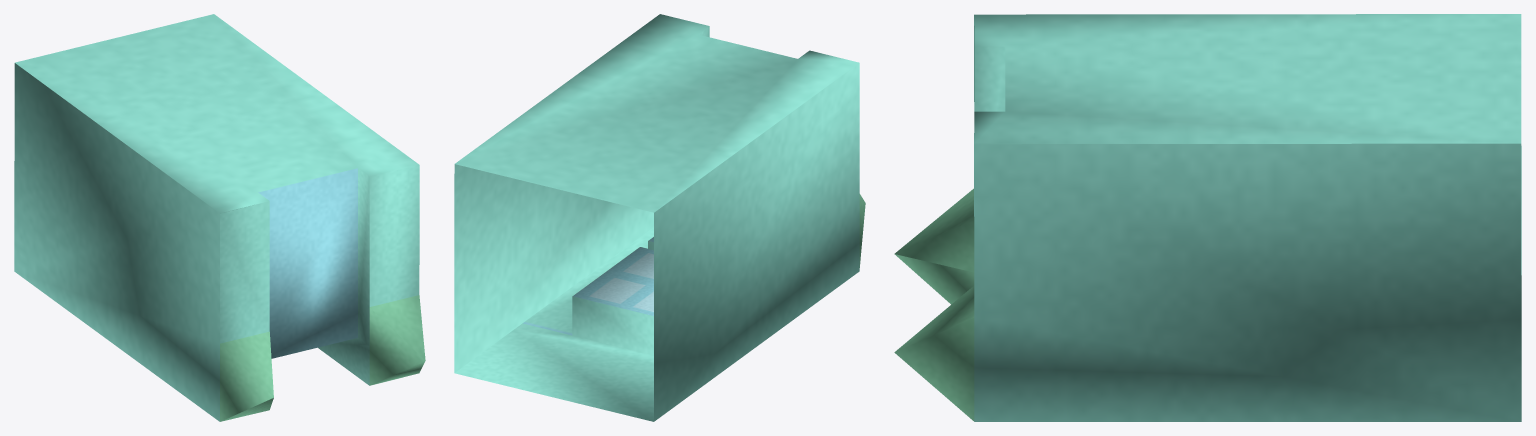
File: building01.fbx
3 views of the same model, side by side, from view 1: azimuth 30°, elevation 25°; view 2: azimuth 150°, elevation 25°; view 3: azimuth 270°, elevation 25° (orthographic). The views are drawn at different scales.
Parts seen in each view (by area): view 1: Cube; view 2: Cube; view 3: Cube.
Boxes of the visible parts, <box> form: Cube: <box>14,14,425,421</box>; Cube: <box>454,14,865,421</box>; Cube: <box>894,14,1521,421</box>.
Bounding box in the file's own units: 64 × 64.19 × 131.
1 material, 1 textured.
